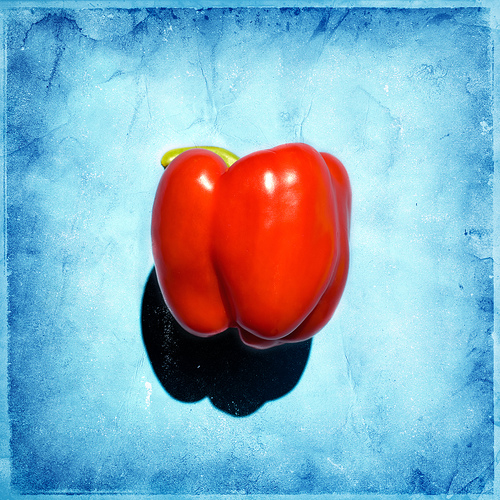capsicum: (153, 143, 351, 351)
